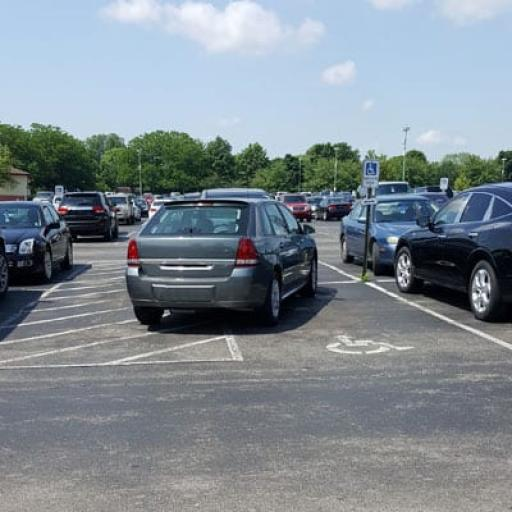Illegal-parking: (61, 128, 393, 365)
